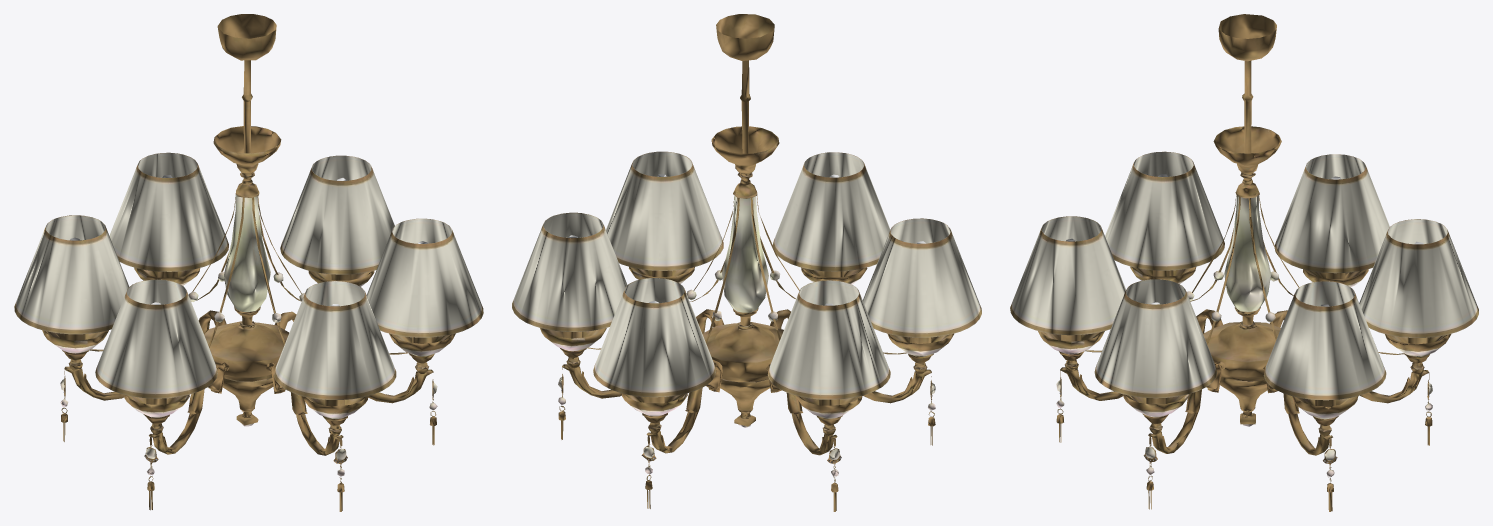
The model's file is chandelier.glb.
The picture shows the model from 3 angles, left to right: view 1: azimuth 30°, elevation 25°; view 2: azimuth 150°, elevation 25°; view 3: azimuth 270°, elevation 25°; orthographic projection.
Visible parts, largest first — view 1: chandelier; view 2: chandelier; view 3: chandelier.
Boxes of the visible parts, bbox=[...] form: chandelier: bbox=[14, 14, 483, 511]; chandelier: bbox=[512, 14, 981, 511]; chandelier: bbox=[1010, 14, 1478, 511].
Bounding box in the file's own units: 0.8413 × 0.9 × 0.9192.
Materials: 2 (1 with a texture image).
